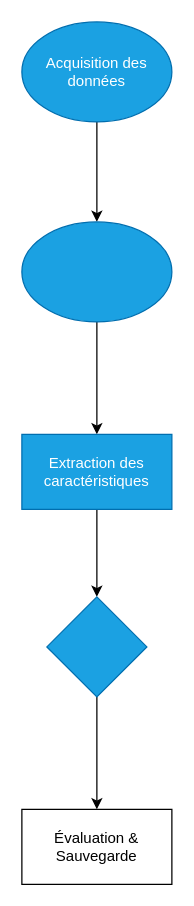
Some shapes in this 194 by 906 pixel diagram are drawn without their labels. The centre of each missing label's shape, as x and y in pixels:
"Modèles IA" goes at pixel 96 646.
"Prétraitement" goes at pixel 96 271.
